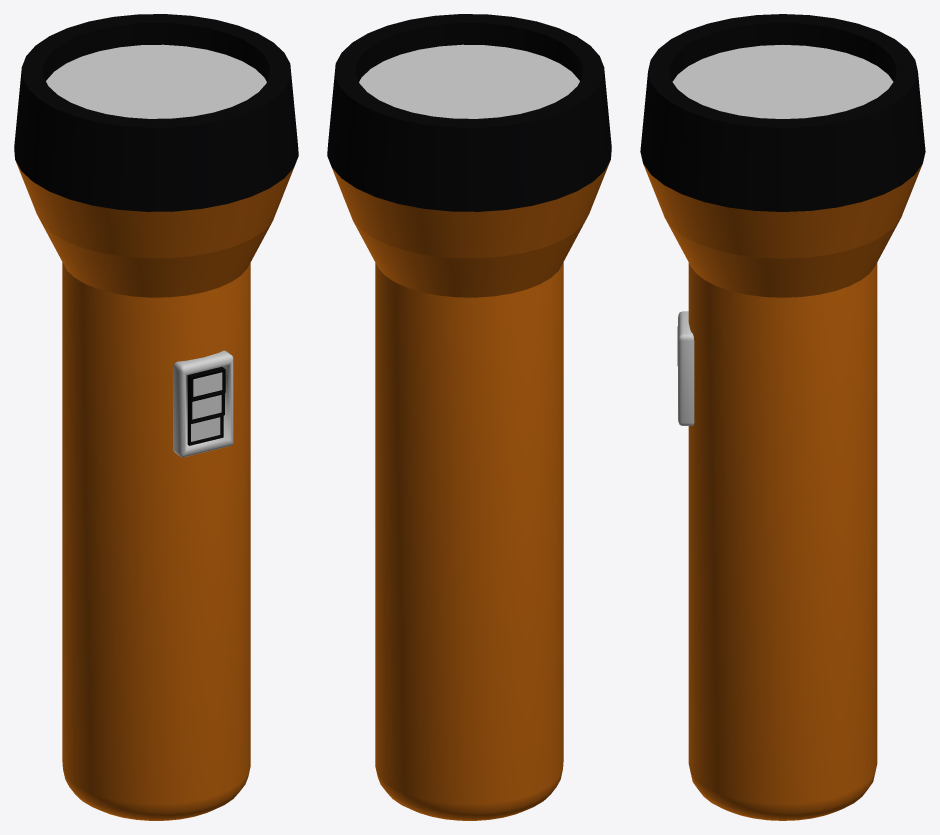
The model's file is flashlight.obj.
3 renders of one model, left to right at view 1: azimuth 30°, elevation 25°; view 2: azimuth 150°, elevation 25°; view 3: azimuth 270°, elevation 25°, orthographic.
Parts seen in each view (by area): view 1: Cylinder; view 2: Cylinder; view 3: Cylinder.
Part boxes in pixels (x1,y1,x2,y2): Cylinder: (14,14,298,820); Cylinder: (327,14,611,820); Cylinder: (640,14,925,820).
Size of the model in its own units: 0.0605 by 0.1686 by 0.0605.
